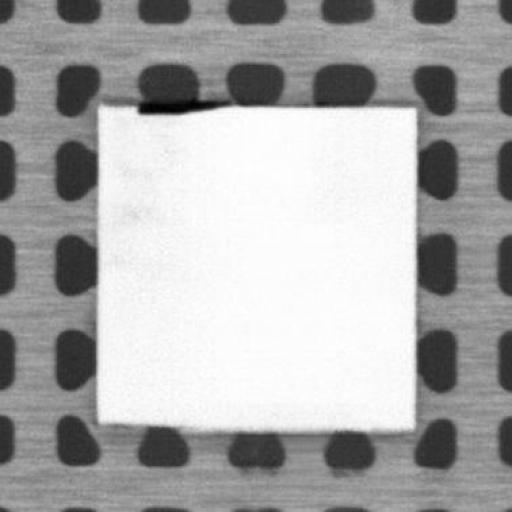DIE_BROKEN: (132, 96, 232, 113)
